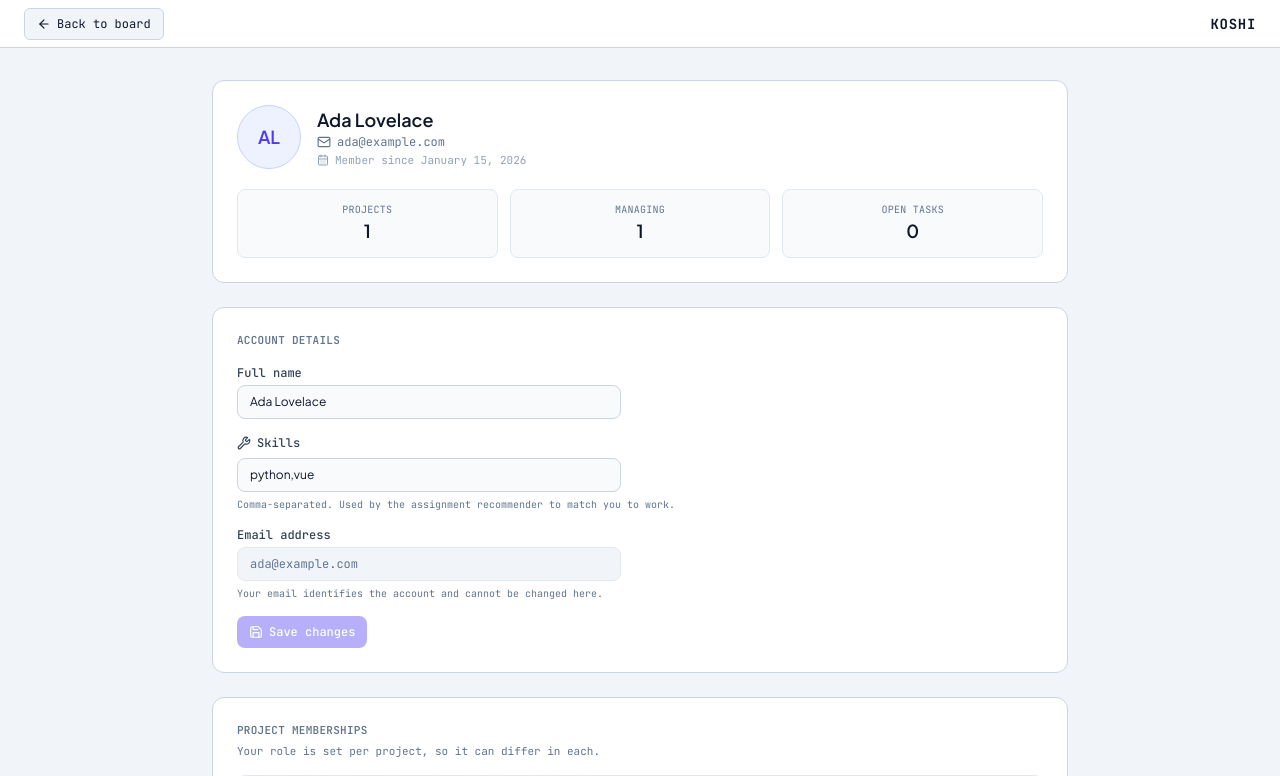
Scenario: editing › restores the original values on discard
Replace the text in the field labelled "Full name" with "Typo" at (429, 402), box top-left (237, 384), bottom-right (621, 418)
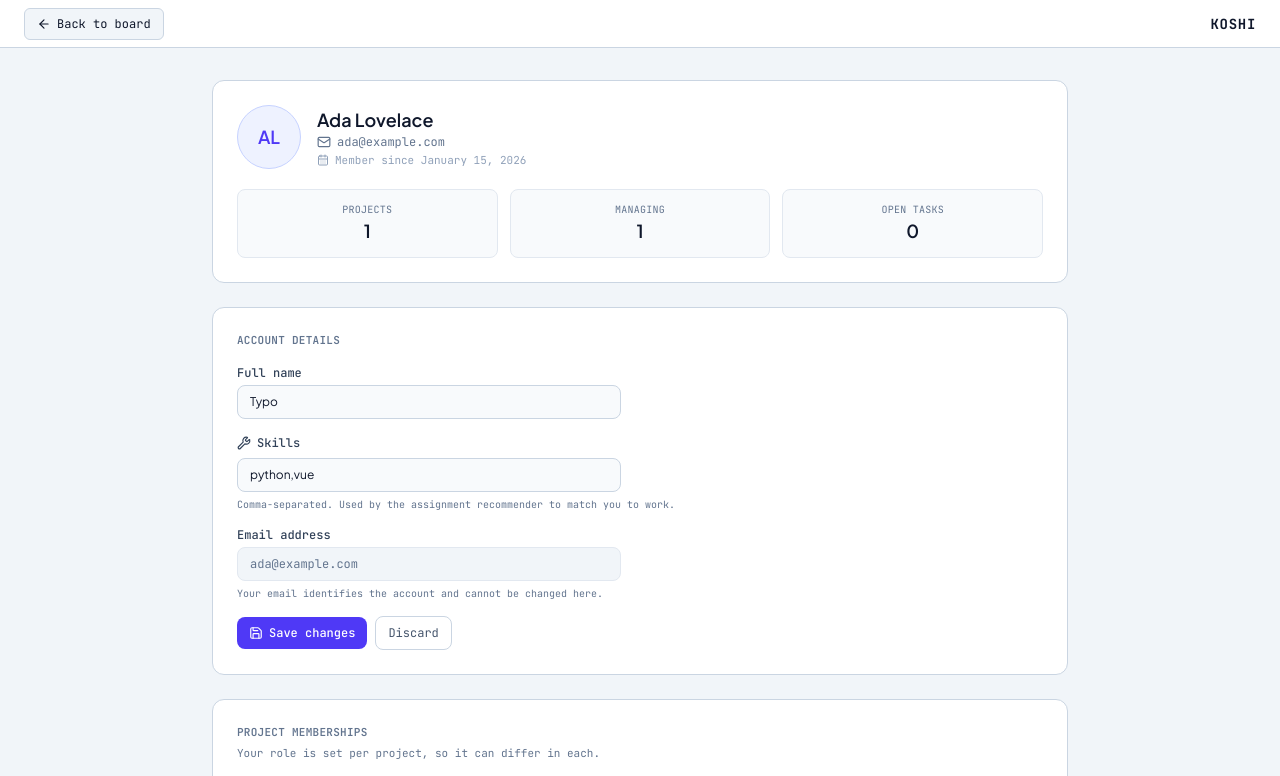
Click the button "Discard" at (414, 633), box top-left (375, 616), bottom-right (452, 650)
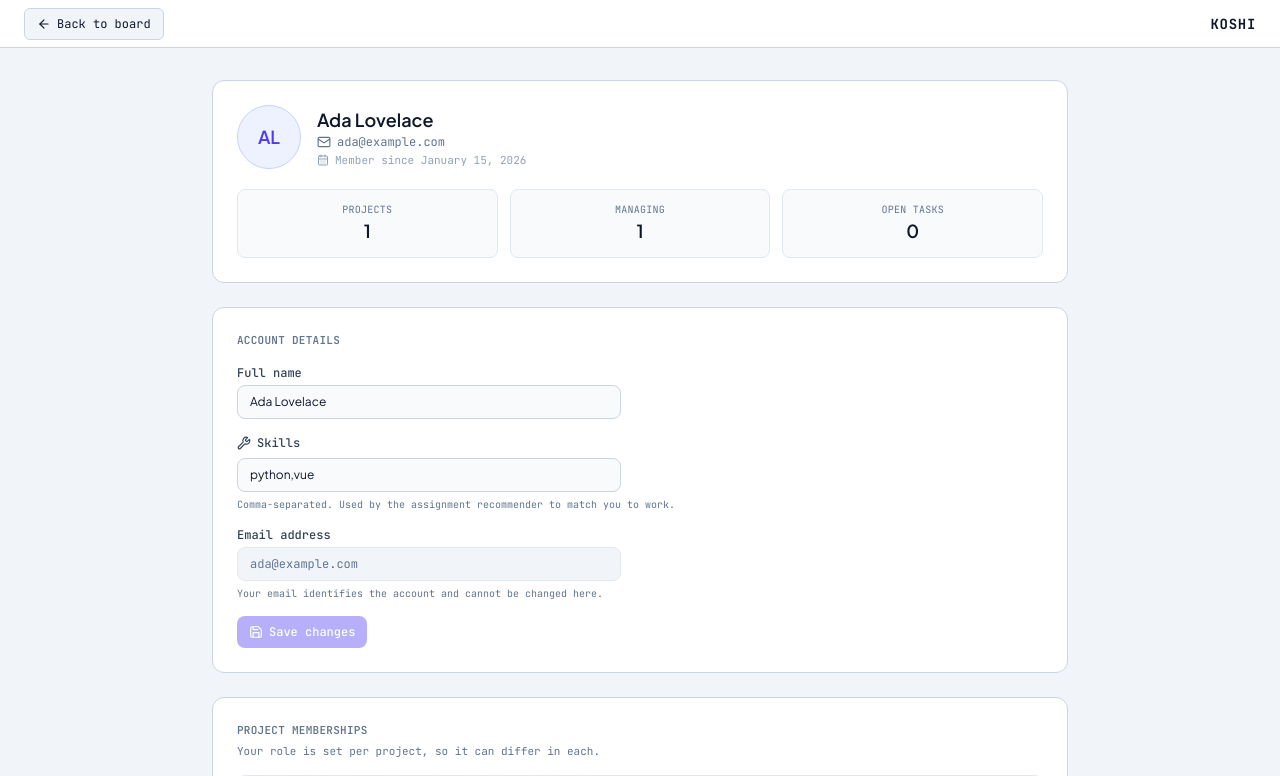
Expected: the field labelled "Full name" holds "Ada Lovelace", top-left (237, 384), bottom-right (621, 418)
